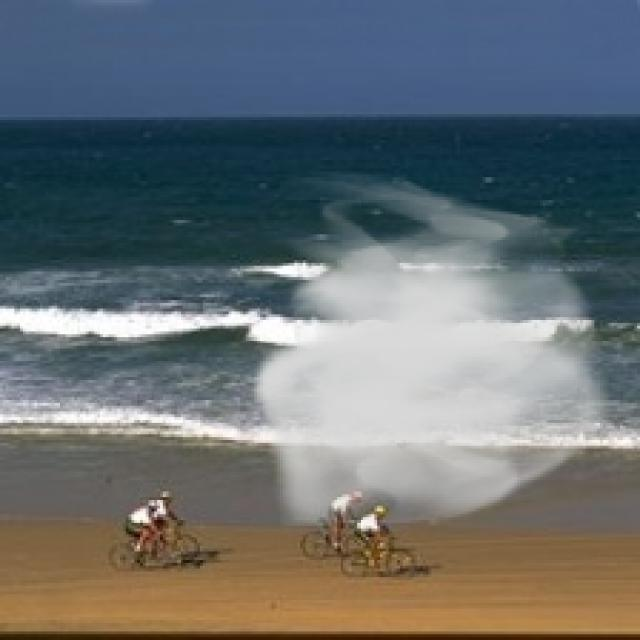Smoke: (248, 168, 623, 538)
